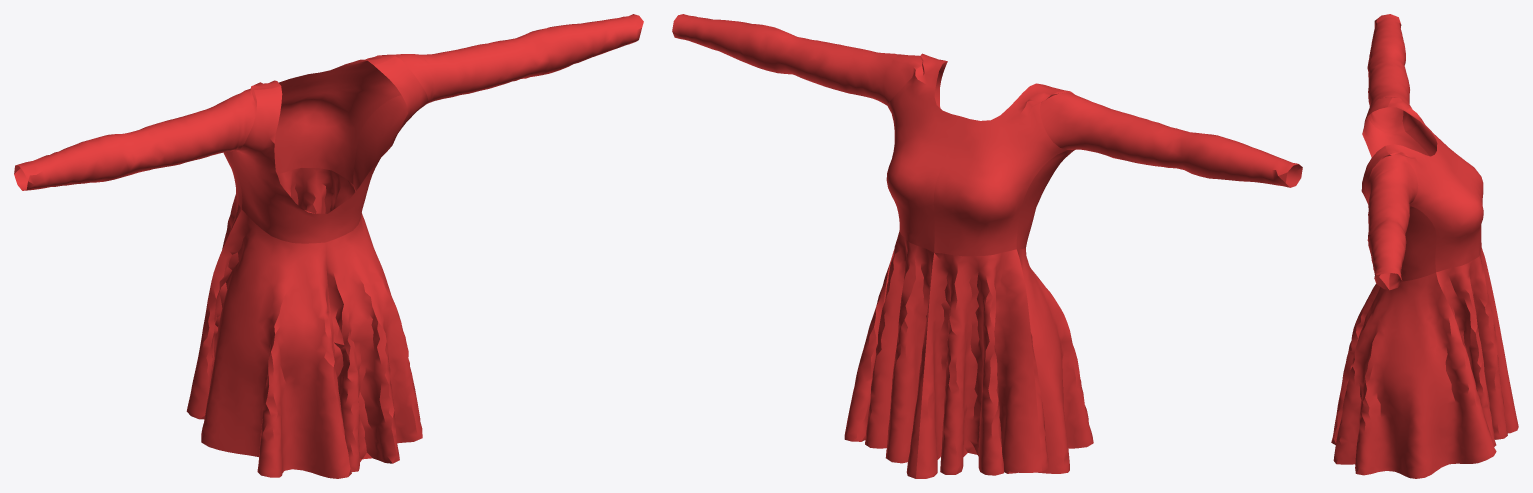
The model's file is korot_plat_combined.fbx.
3 renders of one model, left to right at view 1: azimuth 30°, elevation 25°; view 2: azimuth 150°, elevation 25°; view 3: azimuth 270°, elevation 25°, orthographic. The views are drawn at different scales.
Parts seen in each view (by area): view 1: Shape2D_17305_1; view 2: Shape2D_17305_1; view 3: Shape2D_17305_1.
Boxes of the visible parts, bbox=[...] form: Shape2D_17305_1: bbox=[14, 14, 643, 478]; Shape2D_17305_1: bbox=[672, 14, 1302, 478]; Shape2D_17305_1: bbox=[1331, 14, 1518, 478].
Bounding box in the file's own units: 135 × 78.94 × 41.25.
